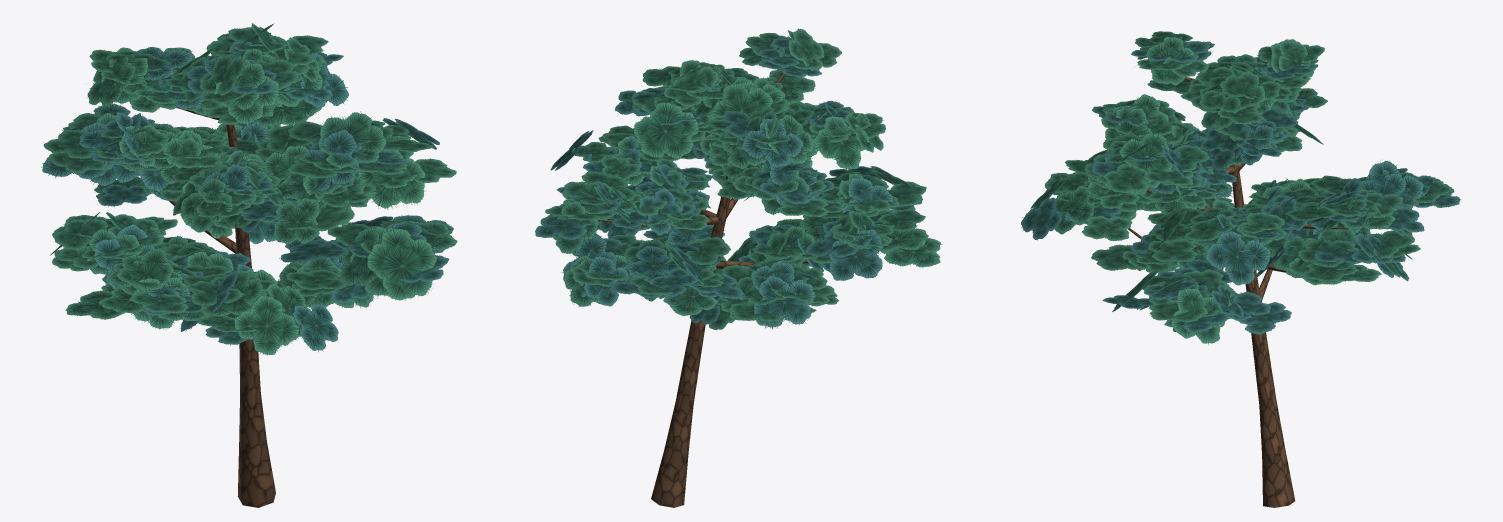
The model's file is Tree_Pine.glb.
The picture shows the model from 3 angles, left to right: view 1: azimuth 30°, elevation 25°; view 2: azimuth 150°, elevation 25°; view 3: azimuth 270°, elevation 25°; orthographic projection. The views are drawn at different scales.
Visible parts, largest first — view 1: Tree_Pine; view 2: Tree_Pine; view 3: Tree_Pine.
Boxes of the visible parts, <box> form: Tree_Pine: <box>41,23,457,507</box>; Tree_Pine: <box>535,28,941,507</box>; Tree_Pine: <box>1021,31,1460,507</box>.
Bounding box in the file's own units: 23.66 × 27.33 × 26.73.
2 materials, 2 textured.
